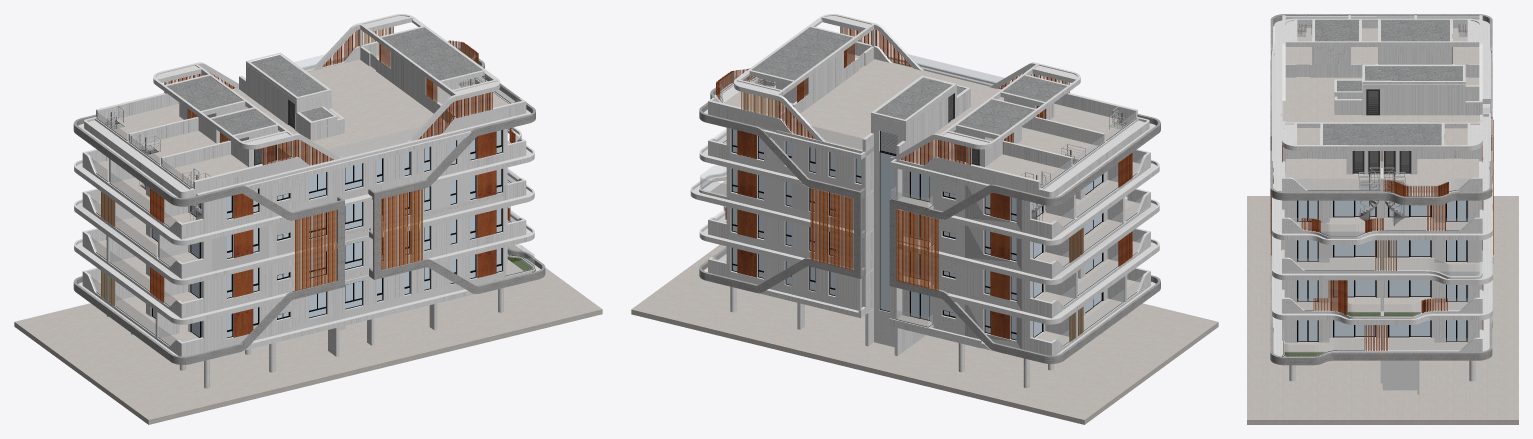
Rendered from Type-F-compressed.glb.
3 views of the same model, side by side, from view 1: azimuth 30°, elevation 25°; view 2: azimuth 150°, elevation 25°; view 3: azimuth 270°, elevation 25° (orthographic).
Visible parts, largest first — view 1: WALL_attached, Ground Floor-1, RooFloor, BetonFrame 3rd-01, Win Glass, Object_14525, Shade Wood 01, Glass_RAILING, BAR - Wood, WoodRecm002, Frame Wim, RAILING - 018 (+2 smaller); view 2: WALL_attached, Ground Floor-1, RooFloor, BetonFrame 3rd-01, Win Glass, Object_14525, Glass_RAILING, Shade Wood 01, BAR - Wood, WoodRecm002, Frame Wim, RAILING - 018 (+3 smaller); view 3: WALL_attached, Ground Floor-1, RooFloor, Glass_RAILING, Win Glass, Object_14525, BetonFrame 3rd-01, BAR - Wood, Frame Wim, D164_001, W351, FU - 080 (+3 smaller).
Part boxes in pixels (box(x1,y1,x2,y2)): WALL_attached: box(74, 14, 540, 356); Ground Floor-1: box(14, 245, 602, 424); RooFloor: box(93, 52, 523, 345); BetonFrame 3rd-01: box(73, 47, 545, 364); Win Glass: box(146, 130, 501, 337); Object_14525: box(167, 27, 482, 134); Shade Wood 01: box(295, 189, 422, 291); Glass_RAILING: box(89, 41, 534, 345); BAR - Wood: box(150, 29, 515, 302); WoodRecm002: box(233, 131, 496, 337); Frame Wim: box(149, 130, 502, 338); RAILING - 018: box(294, 54, 423, 157); WALL_attached: box(690, 14, 1159, 355); Ground Floor-1: box(631, 245, 1218, 424); RooFloor: box(710, 53, 1139, 344); BetonFrame 3rd-01: box(699, 76, 1160, 363); Win Glass: box(732, 129, 1101, 339); Object_14525: box(752, 27, 1066, 134); Glass_RAILING: box(700, 70, 1144, 345); Shade Wood 01: box(810, 188, 938, 290); BAR - Wood: box(716, 26, 1132, 266); WoodRecm002: box(737, 130, 1010, 339); Frame Wim: box(731, 129, 1103, 340); RAILING - 018: box(810, 54, 1003, 150); WALL_attached: box(1272, 15, 1493, 394); Ground Floor-1: box(1247, 196, 1518, 424); RooFloor: box(1282, 28, 1482, 352); Glass_RAILING: box(1283, 15, 1492, 356); Win Glass: box(1298, 186, 1466, 341); Object_14525: box(1315, 20, 1462, 145); BetonFrame 3rd-01: box(1270, 14, 1492, 365); BAR - Wood: box(1282, 145, 1448, 350); Frame Wim: box(1297, 186, 1467, 342); D164_001: box(1352, 47, 1452, 174); W351: box(1354, 91, 1409, 172); FU - 080: box(1297, 24, 1467, 224).
Bounding box in the file's own units: 39.02 × 19.44 × 20.
Materials: 32 (15 with a texture image).
